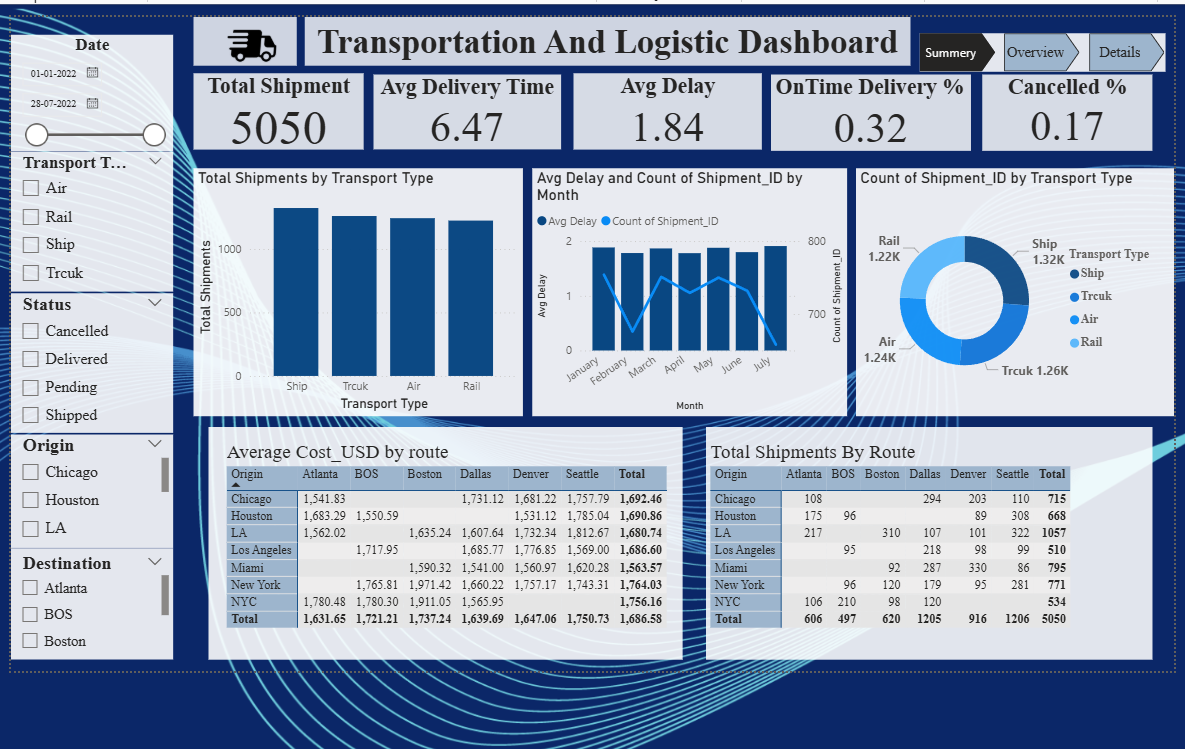

What the dashboard file says about the page in this screenshot:
{"tool":"powerbi","page":{"name":"Summery","canvas":[1280,720],"ordinal":0},"visuals":[{"type":"card","title":"Total Shipment","fields":{"Values":["Customer.Total Shipments"]},"box":[201.2,62.5,187.5,83.8],"z":0},{"type":"card","title":"Avg Delivery Time","fields":{"Values":["Customer.Avg Delivery Time"]},"box":[398.8,63.8,206.2,82.5],"z":1000},{"type":"card","title":"Avg Delay","fields":{"Values":["Customer.Avg Delay"]},"box":[618.8,62.5,207.5,83.8],"z":2000},{"type":"card","title":"Cancelled %","fields":{"Values":["Customer.Cancelled %"]},"box":[1068.8,63.8,187.5,83.8],"z":3000},{"type":"slicer","fields":{"Values":["Shipments.Status"]},"box":[0,304,178.8,153.8],"z":4000},{"type":"slicer","fields":{"Values":["Transport_Modes.Mode_of_Transport"]},"box":[0,148.8,178.8,153.8],"z":5000},{"type":"slicer","fields":{"Values":["Routes.Origin"]},"box":[0,459,178.8,125],"z":6000},{"type":"card","title":"OnTime Delivery %","fields":{"Values":["Customer.On-Time Delivery %"]},"box":[836.2,63.8,220,83.8],"z":7000},{"type":"textbox","box":[323.8,0,666.2,53.8],"z":8000},{"type":"clusteredColumnChart","fields":{"Category":["Transport_Modes.Transport By"],"Y":["Customer.Total Shipments"]},"box":[201.2,166.2,362.5,272.5],"z":9000},{"type":"lineStackedColumnComboChart","fields":{"Category":["Shipments.Date.Variation.Date Hierarchy.Month"],"Y":["Customer.Avg Delay"],"Y2":["CountNonNull(Shipments.Shipment_ID)"]},"box":[573.8,166.2,346.2,272.5],"z":10000},{"type":"donutChart","fields":{"Y":["CountNonNull(Shipments.Shipment_ID)"],"Category":["Transport_Modes.Transport By"]},"box":[930,166.2,350,272.5],"z":11000},{"type":"slicer","fields":{"Values":["Routes.Destination"]},"box":[0,585,178.8,122.5],"z":12000},{"type":"pivotTable","title":"Average Cost_USD by route","fields":{"Rows":["Routes.Origin"],"Columns":["Routes.Destination"],"Values":["Avg(Shipments.Cost_USD)"]},"box":[217.5,451.2,521.2,256.2],"z":13000},{"type":"pivotTable","title":"Total Shipments By Route","fields":{"Rows":["Routes.Origin"],"Values":["Customer.Total Shipments"],"Columns":["Routes.Destination"]},"box":[765,451.2,491.2,256.2],"z":14000},{"type":"pageNavigator","box":[1000,17.5,270,42.5],"z":15000},{"type":"textbox","box":[201.2,0,113.8,53.8],"z":16000},{"type":"slicer","title":"Date","fields":{"Values":["Shipments.Date"]},"box":[0,18.8,178.8,128.8],"z":17000},{"type":"image","box":[206.2,0,117.5,63.8],"z":18000}]}

Visuals, with their boxes in screenshot pixels (x1, y1, x2, y2):
"Total Shipment" card: x1=190 y1=69 x2=361 y2=146
"Avg Delivery Time" card: x1=370 y1=71 x2=559 y2=146
"Avg Delay" card: x1=571 y1=69 x2=761 y2=146
"Cancelled %" card: x1=982 y1=71 x2=1153 y2=147
slicer - Shipments.Status: x1=6 y1=290 x2=169 y2=430
slicer - Transport_Modes.Mode_of_Transport: x1=6 y1=148 x2=169 y2=289
slicer - Routes.Origin: x1=6 y1=431 x2=169 y2=546
"OnTime Delivery %" card: x1=770 y1=71 x2=970 y2=147
textbox: x1=302 y1=12 x2=910 y2=61
clusteredColumnChart - Transport_Modes.Transport By x Customer.Total Shipments: x1=190 y1=164 x2=521 y2=413
lineStackedColumnComboChart - Shipments.Date.Variation.Date Hierarchy.Month x Customer.Avg Delay: x1=530 y1=164 x2=846 y2=413
donutChart - CountNonNull(Shipments.Shipment_ID) x Transport_Modes.Transport By: x1=855 y1=164 x2=1175 y2=413
slicer - Routes.Destination: x1=6 y1=546 x2=169 y2=658
"Average Cost_USD by route" pivotTable: x1=205 y1=424 x2=681 y2=658
"Total Shipments By Route" pivotTable: x1=705 y1=424 x2=1153 y2=658
pageNavigator: x1=919 y1=28 x2=1166 y2=67
textbox: x1=190 y1=12 x2=294 y2=61
"Date" slicer: x1=6 y1=30 x2=169 y2=147
image: x1=194 y1=12 x2=302 y2=71
